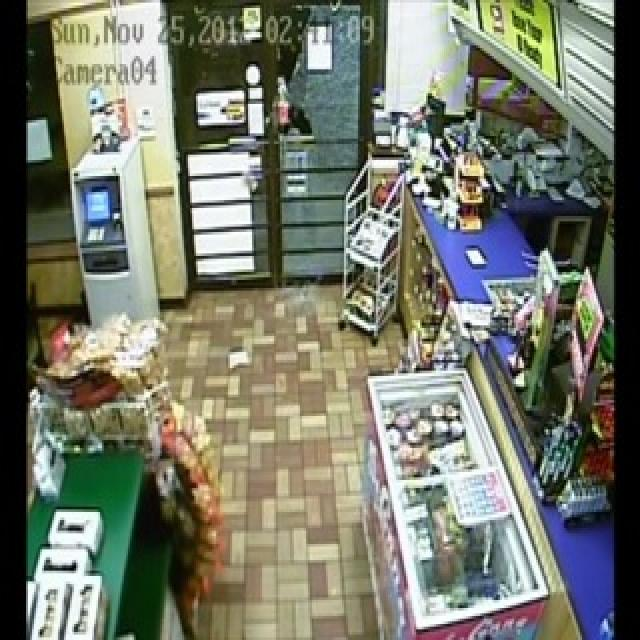burglary: (270, 7, 364, 275)
